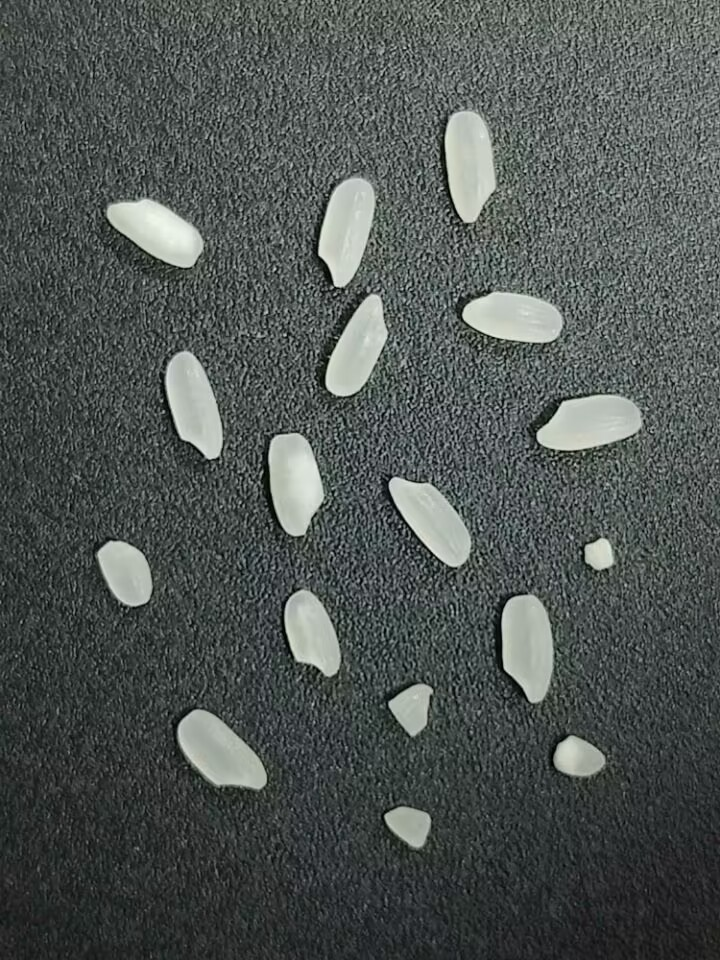broken: (95, 538, 152, 608), (387, 681, 435, 740), (551, 734, 607, 779), (382, 805, 431, 851), (583, 533, 616, 573)
rice: (381, 468, 479, 582), (263, 427, 329, 549), (101, 196, 206, 270), (176, 708, 267, 792), (323, 293, 390, 398), (314, 174, 375, 288), (498, 593, 557, 709), (165, 349, 224, 463), (535, 393, 643, 451), (443, 110, 496, 224), (460, 290, 563, 343), (282, 587, 341, 678)
